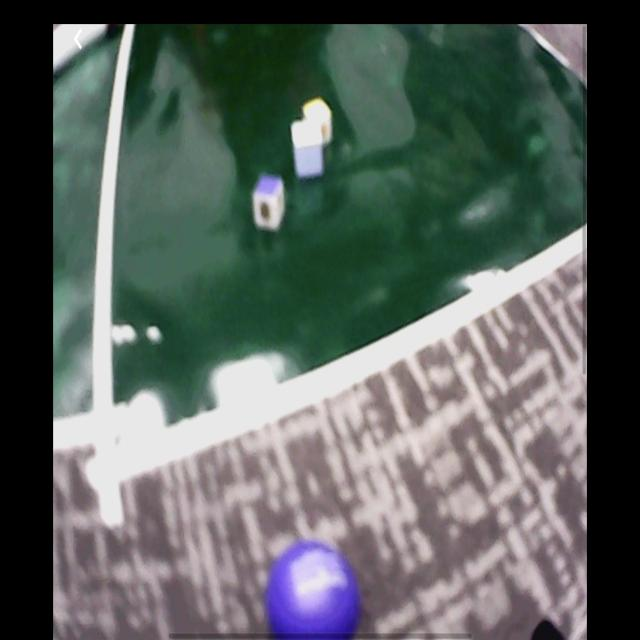ball: (267, 544, 358, 638)
